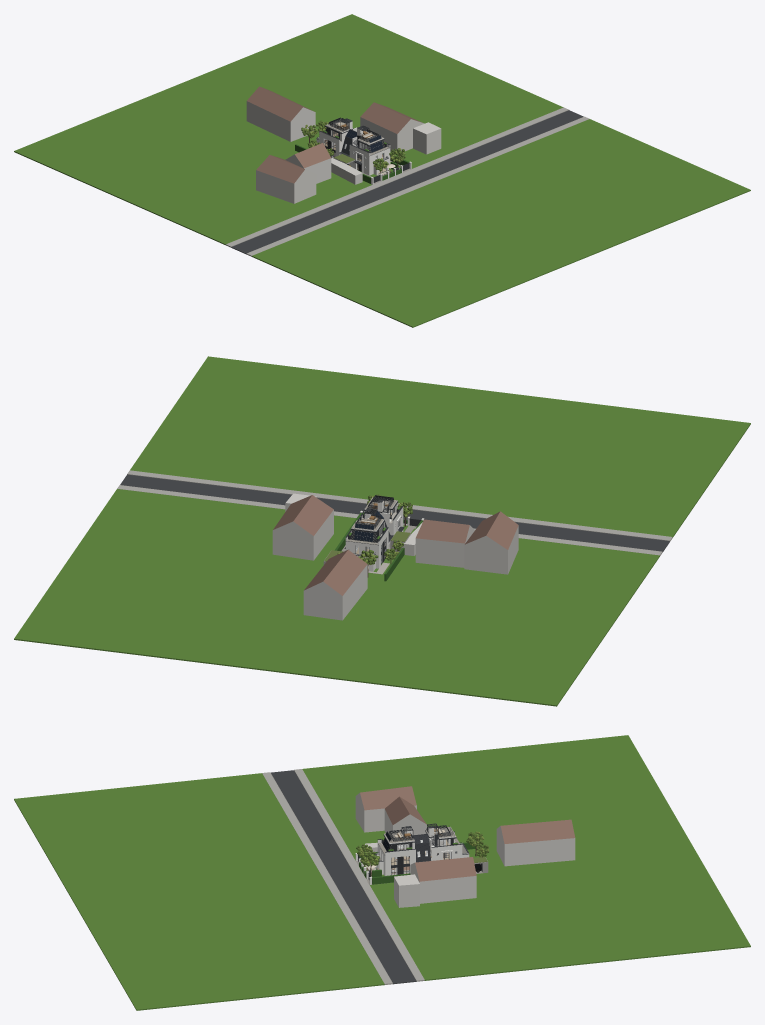
Rendered from Gerlichstr8_Doppelhaus.glb.
3 views of the same model, one above another, from view 1: azimuth 30°, elevation 25°; view 2: azimuth 150°, elevation 25°; view 3: azimuth 270°, elevation 25° (orthographic). The views are drawn at different scales.
Parts seen in each view (by area): view 1: Gelaende_Rasen, Strasse_Gerlichstrasse, Nachbar_Nord_Nr9_9b, Nachbar_West_gross, Nachbar_Ost_Nr6_6a, Nachbar_West_Nr10, Nachbar_Ost_Nr6_Anbau, Aussen_Baeume; view 2: Gelaende_Rasen, Strasse_Gerlichstrasse, Nachbar_Nord_Nr9_9b, Nachbar_Ost_Nr6_6a, Nachbar_West_gross, Nachbar_West_Nr10, Aussen_Baeume; view 3: Gelaende_Rasen, Strasse_Gerlichstrasse, Nachbar_Nord_Nr9_9b, Nachbar_Ost_Nr6_6a, Nachbar_West_gross, Nachbar_West_Nr10, Nachbar_Ost_Nr6_Anbau, Aussen_Baeume.
Boxes of the visible parts, left/top/right/bottom form: Gelaende_Rasen: left=14, top=14, right=750, bottom=327; Strasse_Gerlichstrasse: left=225, top=107, right=589, bottom=256; Nachbar_Nord_Nr9_9b: left=246, top=86, right=315, bottom=141; Nachbar_West_gross: left=256, top=155, right=316, bottom=203; Nachbar_Ost_Nr6_6a: left=360, top=102, right=424, bottom=151; Nachbar_West_Nr10: left=285, top=143, right=331, bottom=183; Nachbar_Ost_Nr6_Anbau: left=413, top=122, right=441, bottom=154; Aussen_Baeume: left=301, top=120, right=405, bottom=173; Gelaende_Rasen: left=14, top=356, right=750, bottom=706; Strasse_Gerlichstrasse: left=117, top=470, right=672, bottom=555; Nachbar_Nord_Nr9_9b: left=303, top=549, right=367, bottom=620; Nachbar_Ost_Nr6_6a: left=272, top=495, right=333, bottom=560; Nachbar_West_gross: left=464, top=511, right=518, bottom=574; Nachbar_West_Nr10: left=415, top=519, right=474, bottom=567; Aussen_Baeume: left=337, top=494, right=412, bottom=577; Gelaende_Rasen: left=14, top=735, right=750, bottom=1010; Strasse_Gerlichstrasse: left=262, top=769, right=424, bottom=984; Nachbar_Nord_Nr9_9b: left=496, top=819, right=575, bottom=866; Nachbar_Ost_Nr6_6a: left=410, top=857, right=476, bottom=903; Nachbar_West_gross: left=355, top=786, right=416, bottom=832; Nachbar_West_Nr10: left=384, top=796, right=426, bottom=835; Nachbar_Ost_Nr6_Anbau: left=394, top=874, right=419, bottom=907; Aussen_Baeume: left=356, top=831, right=489, bottom=876.
Size of the model in its own units: 164 by 14.24 by 186.
